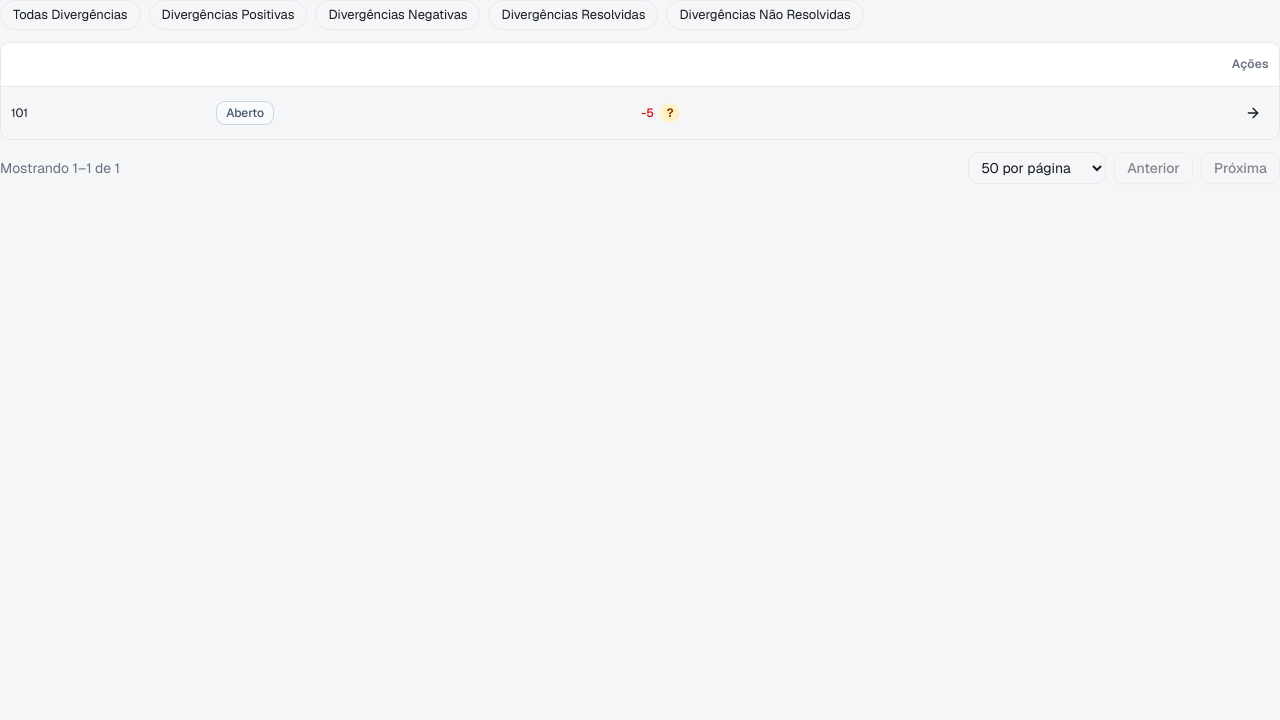
Test: diálogo de justificativa › permissão administrar › COM permissão: a caixa é editável e há botão Salvar (contraste que dá poder ao teste de baixo)
Click the button named "Divergência sem justificativa" at (670, 113), box [660,103,680,123]
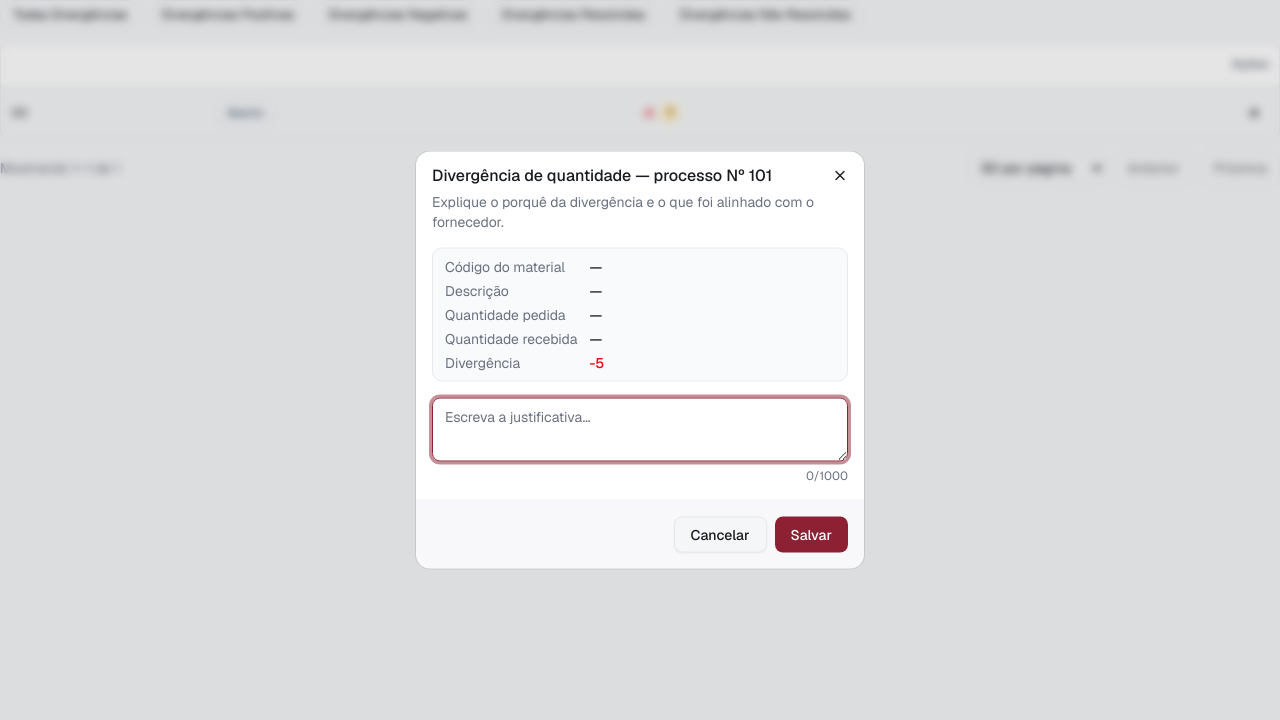
Result: the button "Salvar" is shown at [774,516,848,552]
